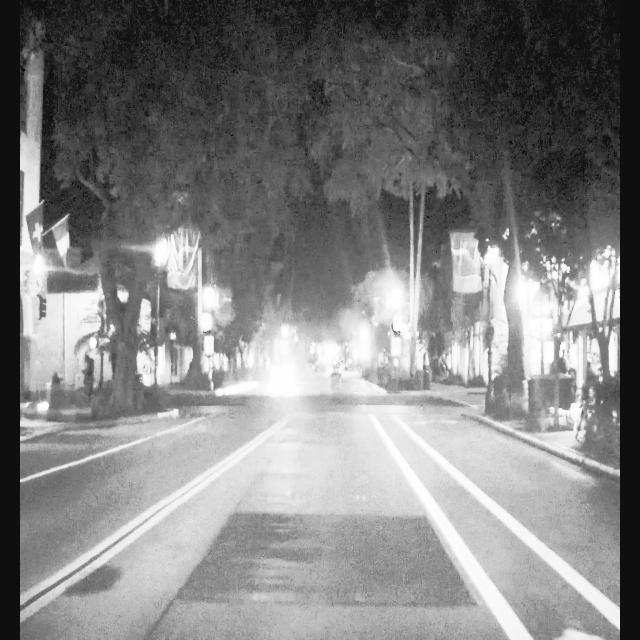Tree: (99, 55, 150, 414), (494, 88, 538, 419), (580, 124, 621, 456)
